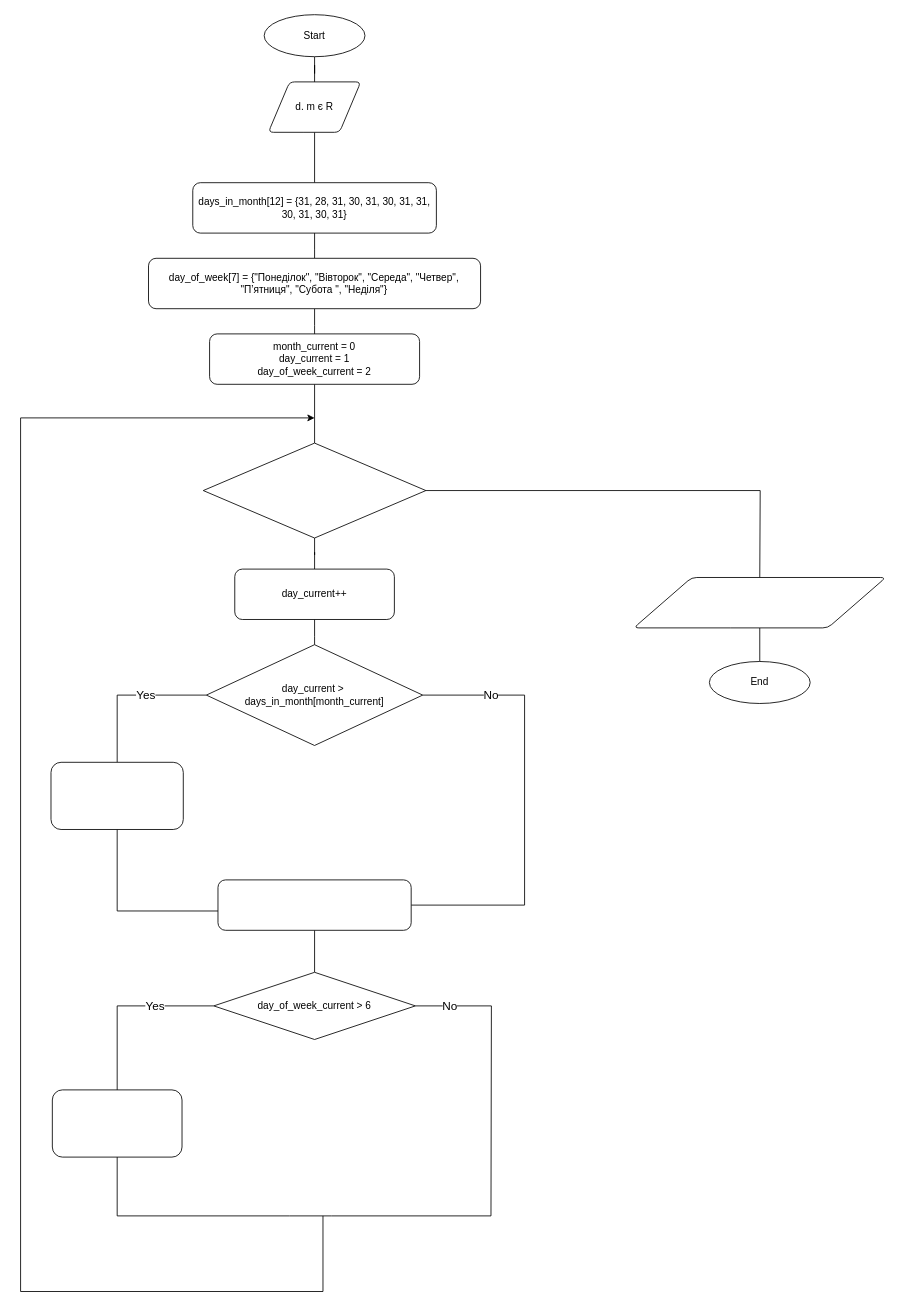
Image size: 900x1307. Some labels were removed from this diagram. Each missing label, with the centre of its shape:
(day_current != d) || (month_current +1) != m: pixel 314 490
day_current = 1 month_current++: pixel 116 795
day_of_week[day_of_week_current]: pixel 759 602
day_of_week_current = 0: pixel 116 1123
day_of_week_current++: pixel 314 904
